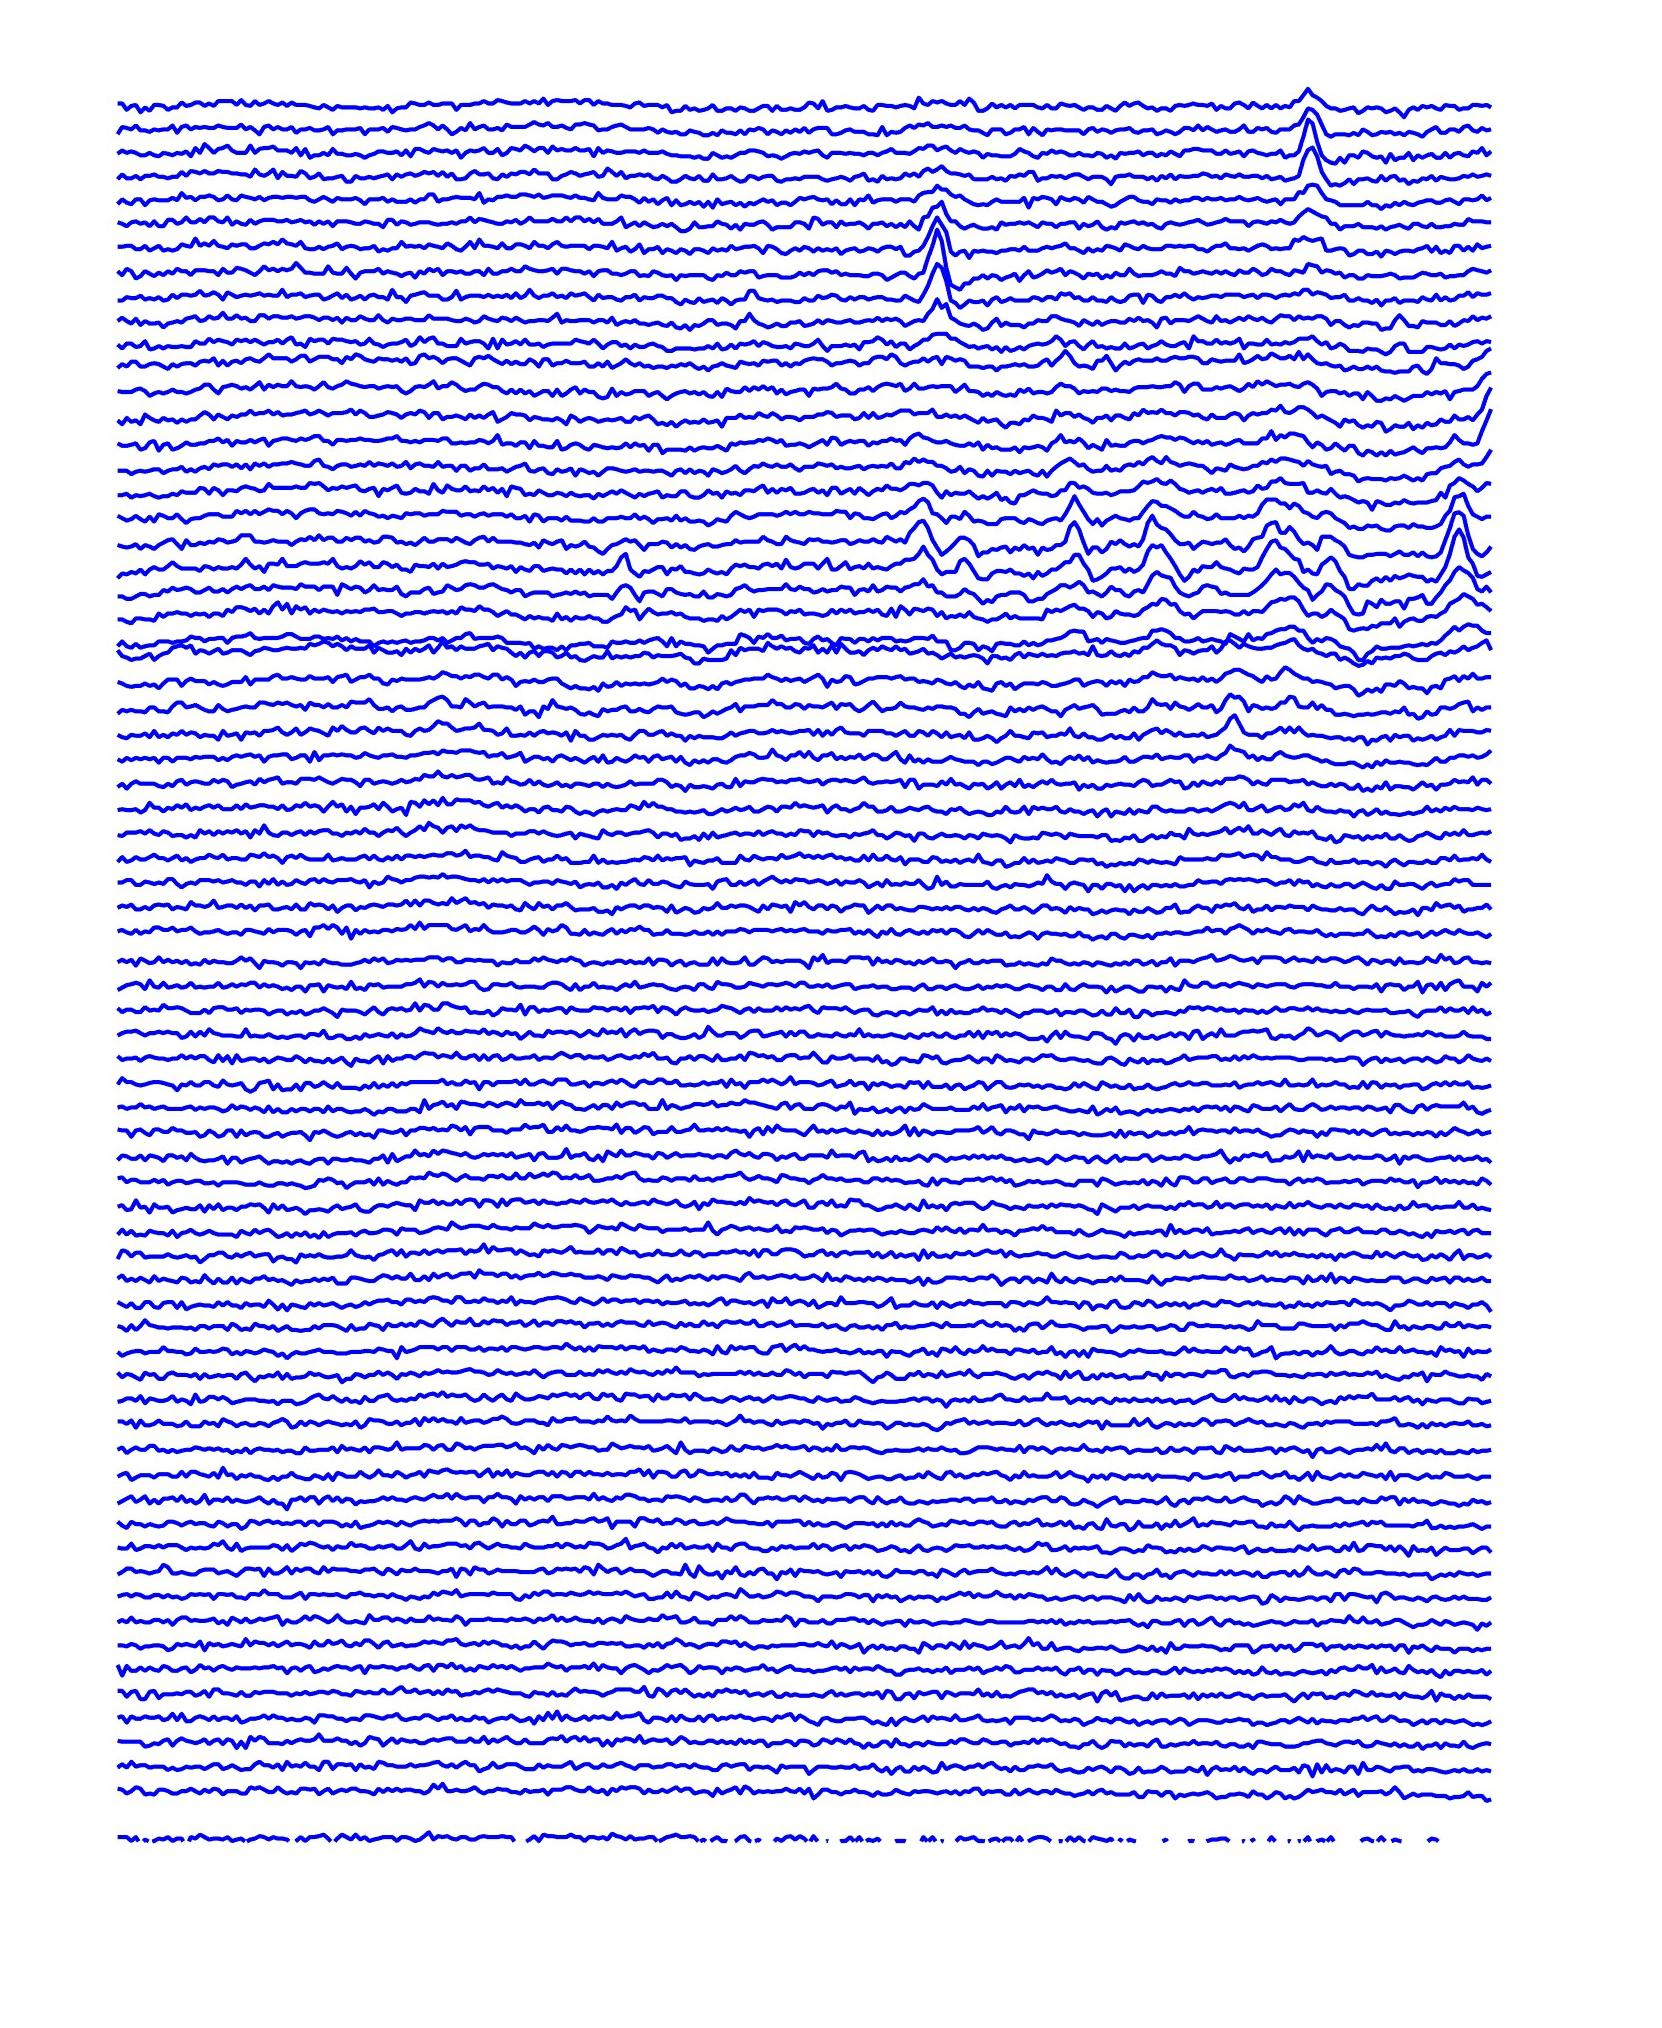defect: (1260, 492, 1361, 659), (886, 462, 985, 610), (894, 177, 982, 327), (1275, 79, 1356, 237), (1420, 448, 1489, 615), (1128, 494, 1192, 633), (1046, 470, 1101, 611), (606, 520, 663, 627)
